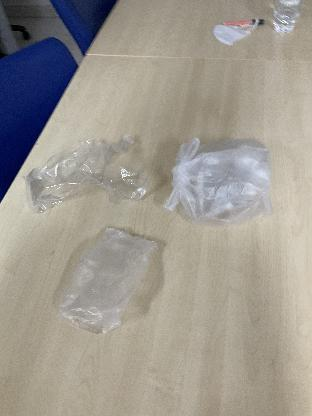Others: (159, 128, 285, 233), (49, 223, 157, 338), (15, 136, 150, 216)
